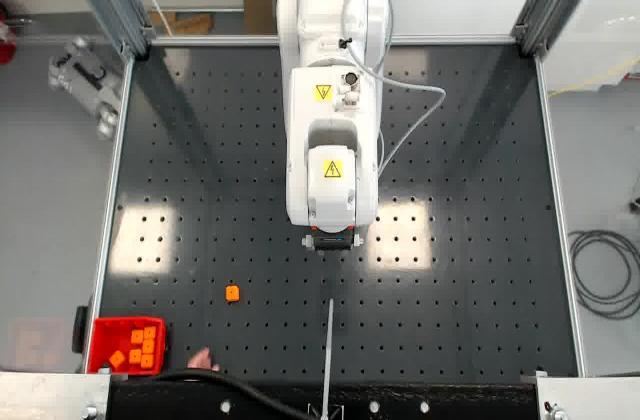cube: (223, 284, 241, 304)
